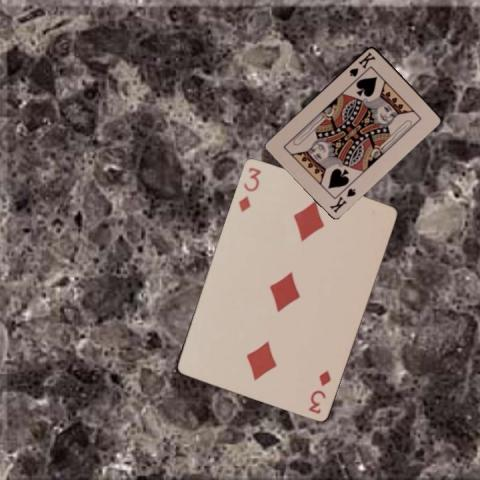3d: (235, 164, 263, 214), (305, 366, 332, 415)
Ks: (346, 49, 377, 78), (327, 185, 357, 214)
